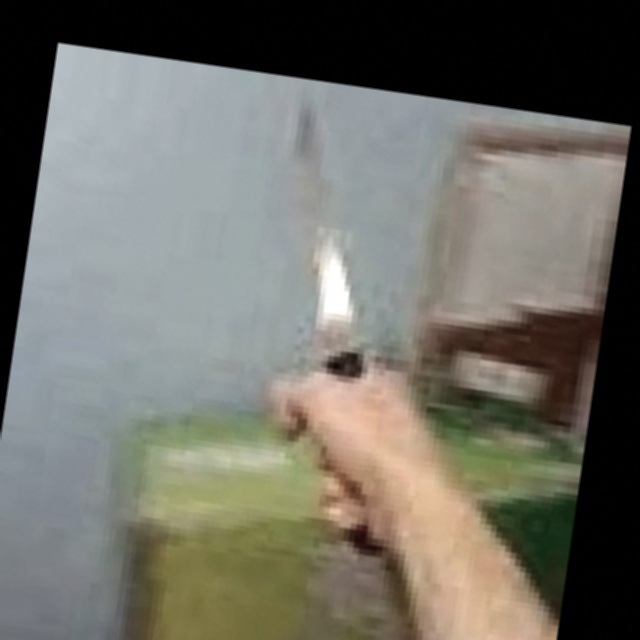Sharp-Object: (240, 110, 446, 564)
